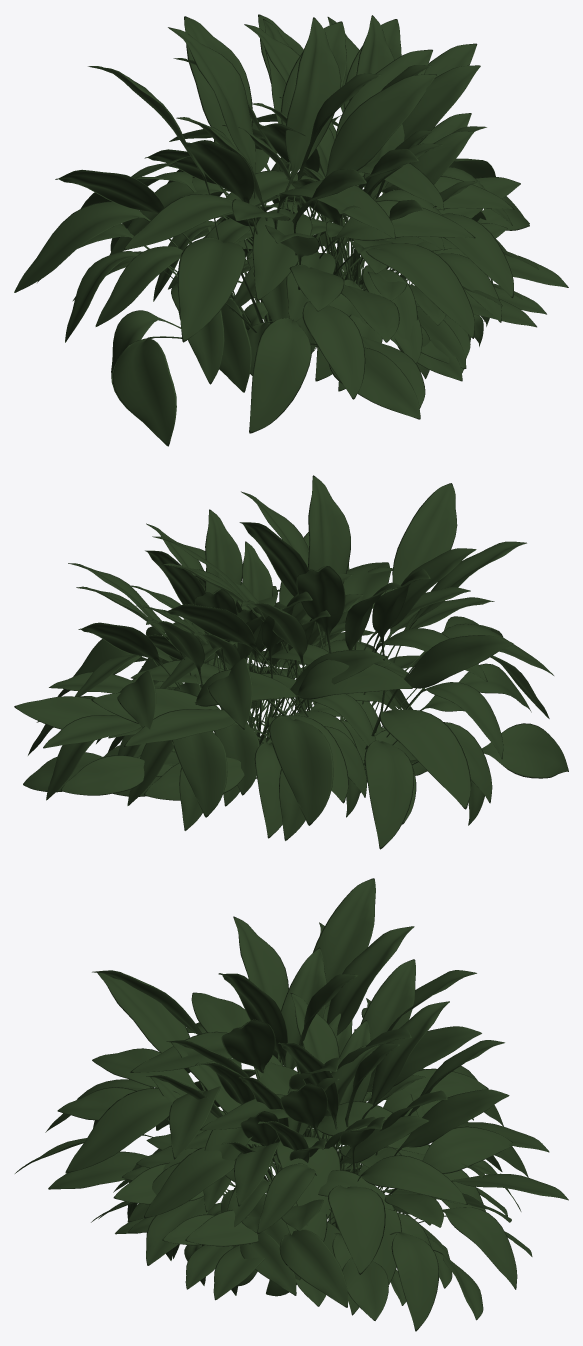
Rendered from bush2.fbx.
3 renders of one model, top to bottom at view 1: azimuth 30°, elevation 25°; view 2: azimuth 150°, elevation 25°; view 3: azimuth 270°, elevation 25°, orthographic. The views are drawn at different scales.
Visible parts, largest first — view 1: Hosta BK.002, Hosta BK.001, Hosta BK; view 2: Hosta BK.002, Hosta BK.001, Hosta BK; view 3: Hosta BK.001, Hosta BK.002, Hosta BK.
Part boxes in pixels (x1,y1,x2,y2): Hosta BK.002: (14, 16, 536, 446); Hosta BK.001: (110, 14, 568, 392); Hosta BK: (168, 97, 546, 391); Hosta BK.002: (91, 475, 568, 849); Hosta BK.001: (14, 509, 427, 838); Hosta BK: (96, 541, 412, 806); Hosta BK.001: (98, 959, 568, 1331); Hosta BK.002: (15, 878, 549, 1288); Hosta BK: (91, 1013, 472, 1315).
Size of the model in its own units: 84.15 by 48.43 by 87.55.
